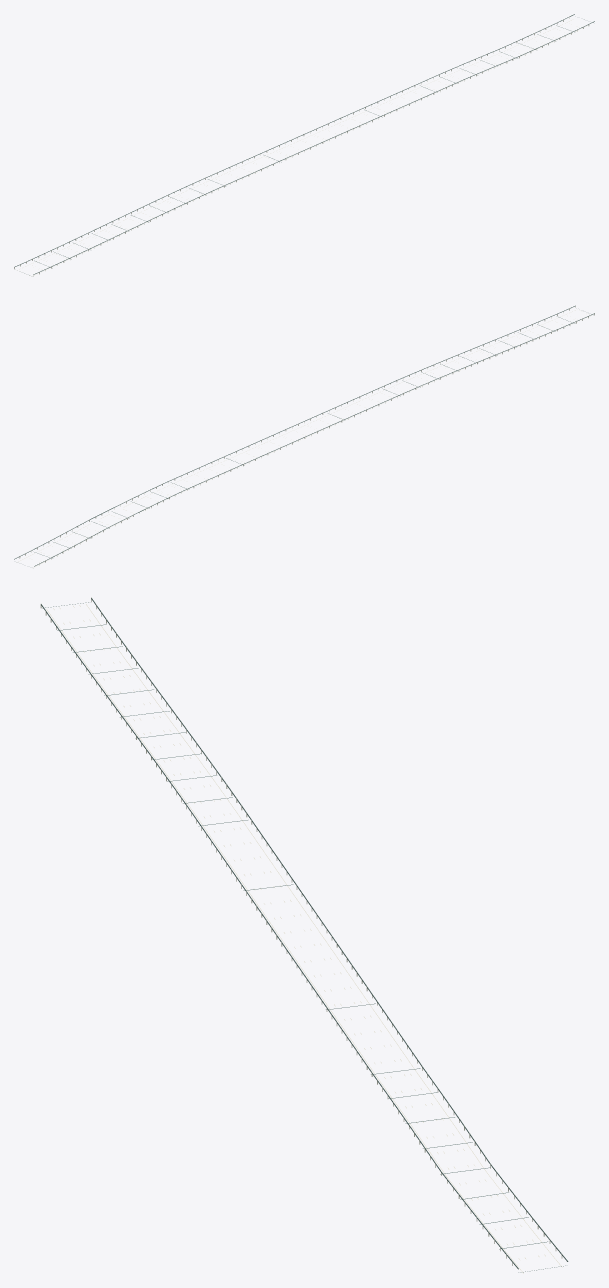
Rendered from transport-1--1.glb.
3 views of the same model, one above another, from view 1: azimuth 30°, elevation 25°; view 2: azimuth 210°, elevation 25°; view 3: azimuth 270°, elevation 25° (orthographic). The views are drawn at different scales.
Visible parts, largest first — view 1: RiverBridge_Details_huluding-bridge; view 2: RiverBridge_Details_huluding-bridge; view 3: RiverBridge_Details_huluding-bridge.
Part boxes in pixels (x1=…): RiverBridge_Details_huluding-bridge: x1=14, y1=14, x2=594, y2=276; RiverBridge_Details_huluding-bridge: x1=14, y1=305, x2=594, y2=567; RiverBridge_Details_huluding-bridge: x1=40, y1=597, x2=568, y2=1273.
Size of the model in its own units: 12.44 by 0.131 by 4.13.
